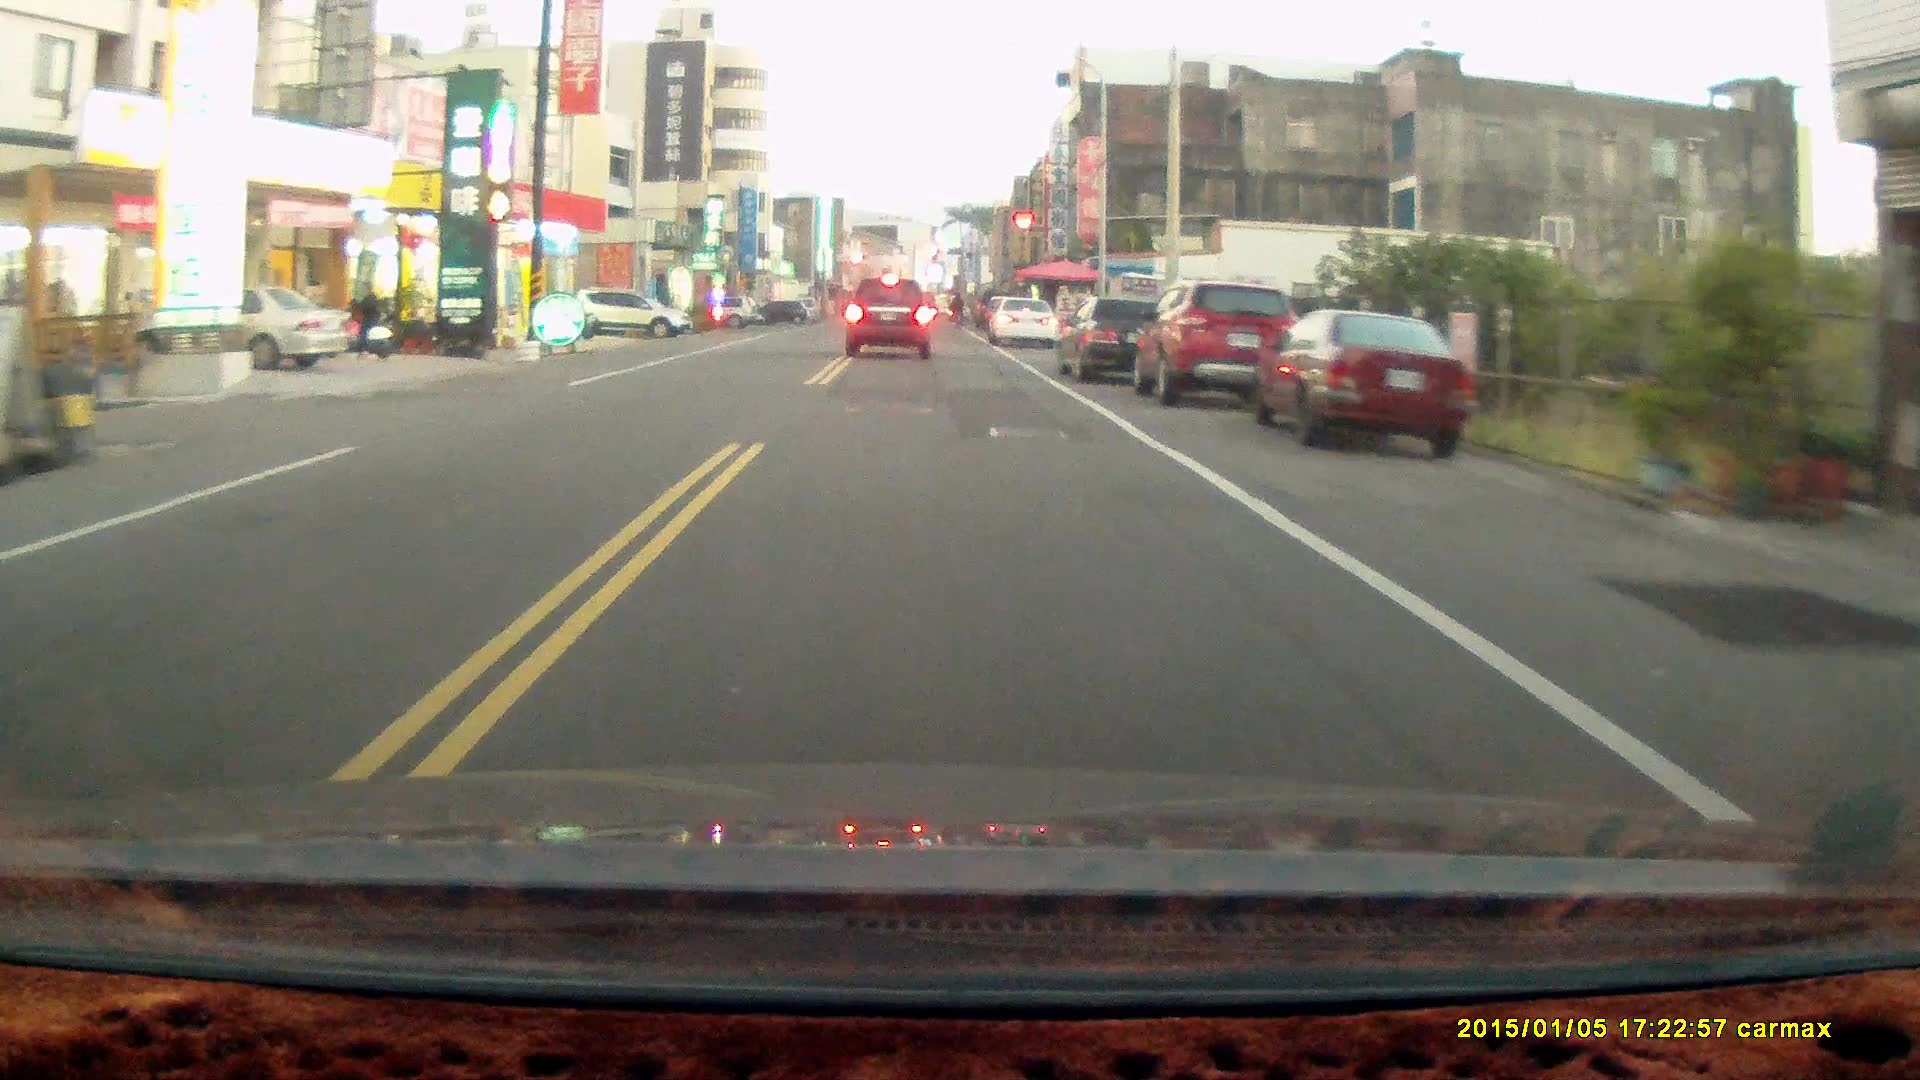vehicle: (1250, 302, 1482, 452), (1135, 276, 1309, 402), (136, 282, 351, 371), (1058, 295, 1182, 380), (844, 274, 938, 357), (574, 285, 691, 336), (989, 295, 1060, 351)
